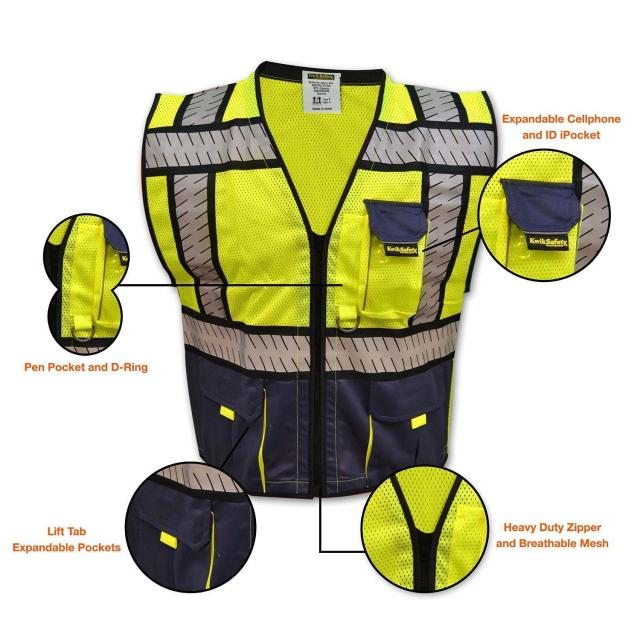Vest: (139, 54, 500, 504)
